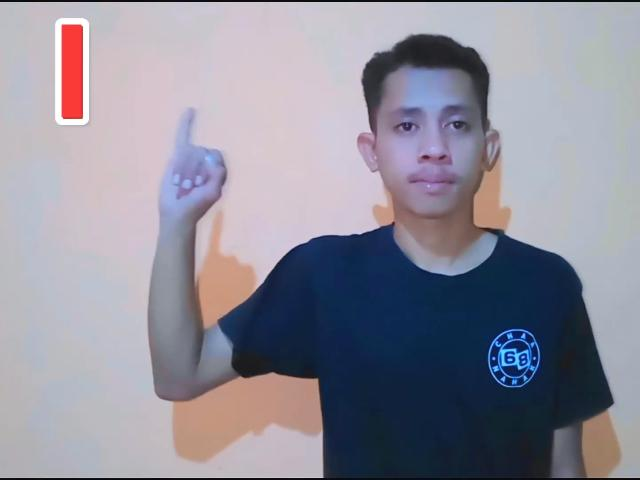I: (149, 108, 235, 232)
